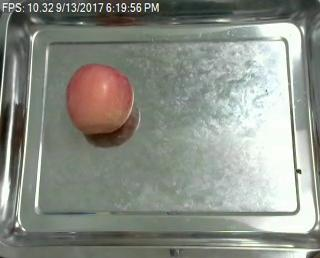apple: (66, 63, 135, 135)
